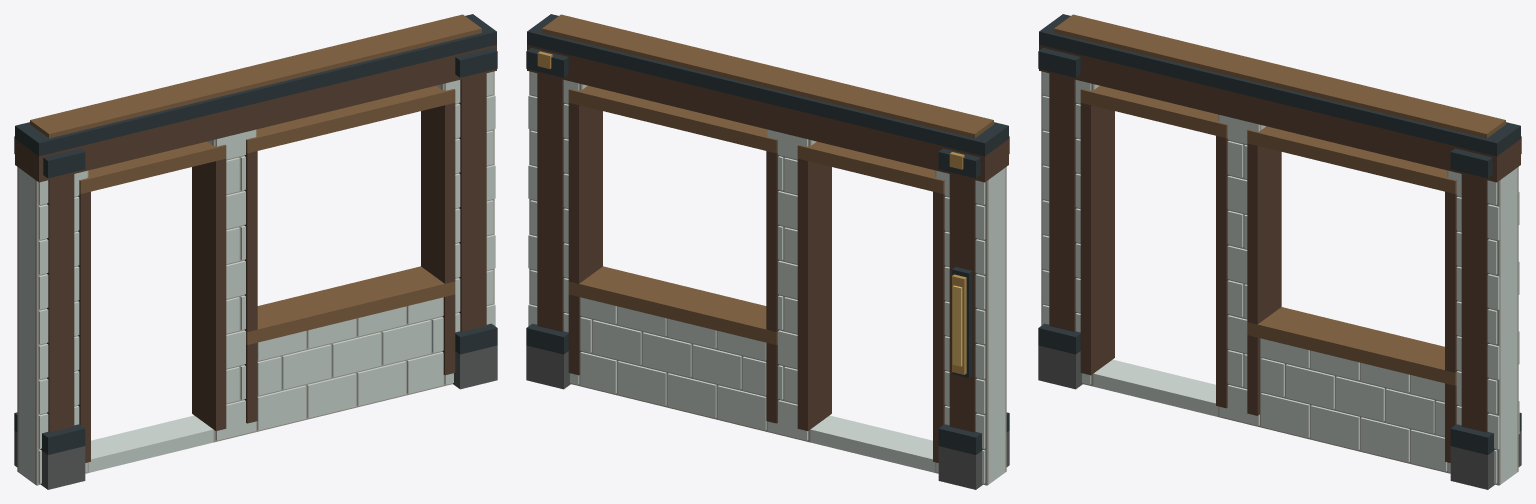
The picture shows the model from 3 angles, left to right: view 1: azimuth 30°, elevation 25°; view 2: azimuth 150°, elevation 25°; view 3: azimuth 330°, elevation 25°; orthographic projection.
Visible parts, largest first — view 1: 旧楼分段入口及窗洞墙; view 2: 旧楼分段入口及窗洞墙; view 3: 旧楼分段入口及窗洞墙.
Part boxes in pixels (left/top/right/bottom): 旧楼分段入口及窗洞墙: left=14, top=14, right=497, bottom=489; 旧楼分段入口及窗洞墙: left=526, top=14, right=1009, bottom=489; 旧楼分段入口及窗洞墙: left=1038, top=14, right=1521, bottom=489.
Size of the model in its own units: 4.4 by 3.2 by 0.6.
Materials: 8 (8 with a texture image).
